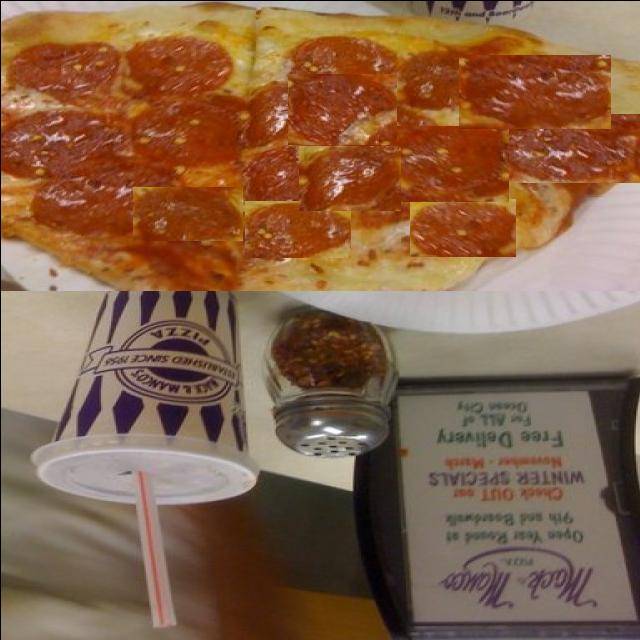pepperoni: (458, 54, 610, 128), (190, 114, 321, 194), (503, 113, 640, 182), (394, 125, 508, 201), (287, 73, 396, 144), (298, 145, 400, 210), (409, 198, 515, 256), (243, 200, 349, 257), (524, 194, 631, 250), (132, 186, 242, 240)
pizza: (0, 0, 640, 290)
